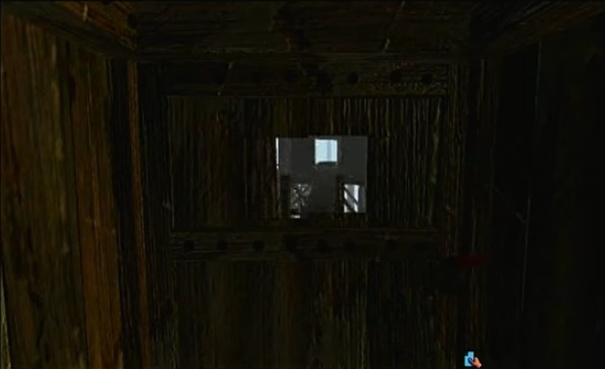Keep: (458, 348, 485, 369)
